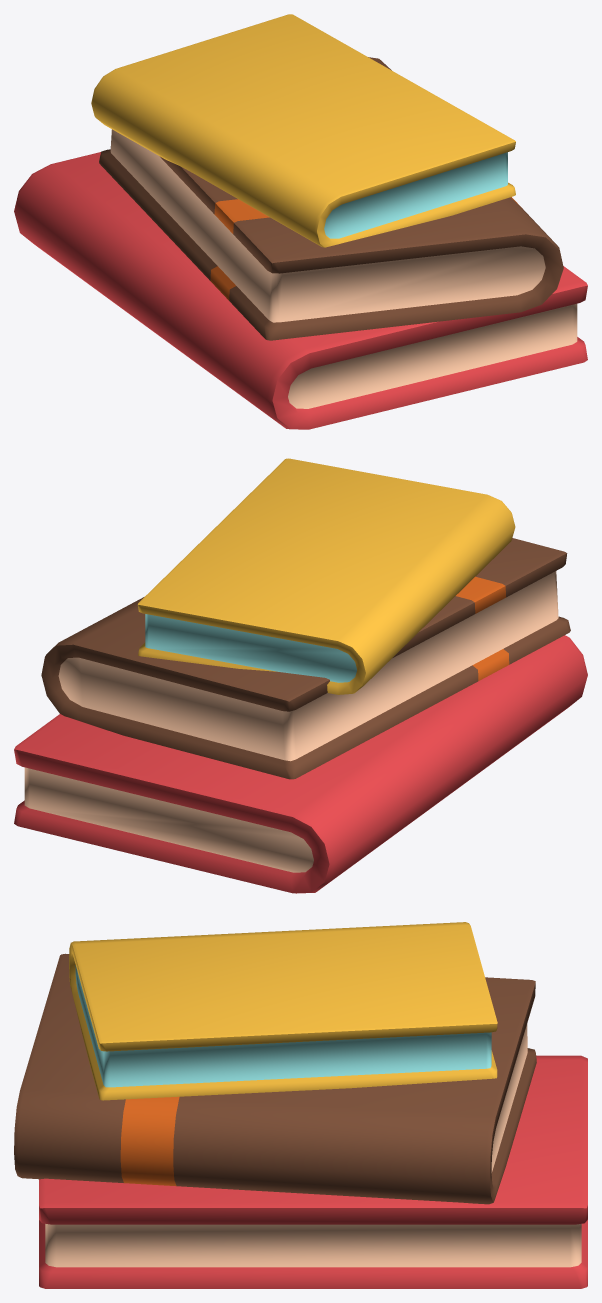
File: livros_pilha_pacote.glb
3 renders of one model, top to bottom at view 1: azimuth 30°, elevation 25°; view 2: azimuth 150°, elevation 25°; view 3: azimuth 270°, elevation 25°, orthographic. The views are drawn at different scales.
Parts seen in each view (by area): view 1: livros_pilha_pacote; view 2: livros_pilha_pacote; view 3: livros_pilha_pacote.
Part boxes in pixels (<box>): livros_pilha_pacote: <box>14,14,587,429</box>; livros_pilha_pacote: <box>14,458,587,893</box>; livros_pilha_pacote: <box>14,922,587,1288</box>.
Size of the model in its own units: 0.1969 by 0.1187 by 0.2731.
Materials: 1 (1 with a texture image).
